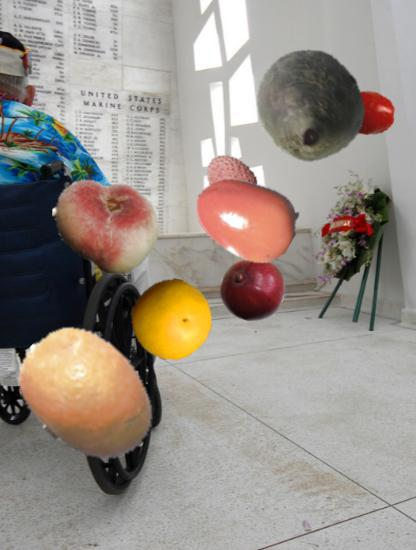Beetroot: (251, 48, 367, 164)
Grapefruit: (131, 279, 213, 361)
Kaki: (193, 164, 299, 270)
Kumquats: (12, 321, 162, 471)
Lychee: (204, 152, 257, 205)
Mango: (220, 257, 286, 323)
Peach: (52, 173, 161, 282)
Tomato: (318, 73, 395, 150)
